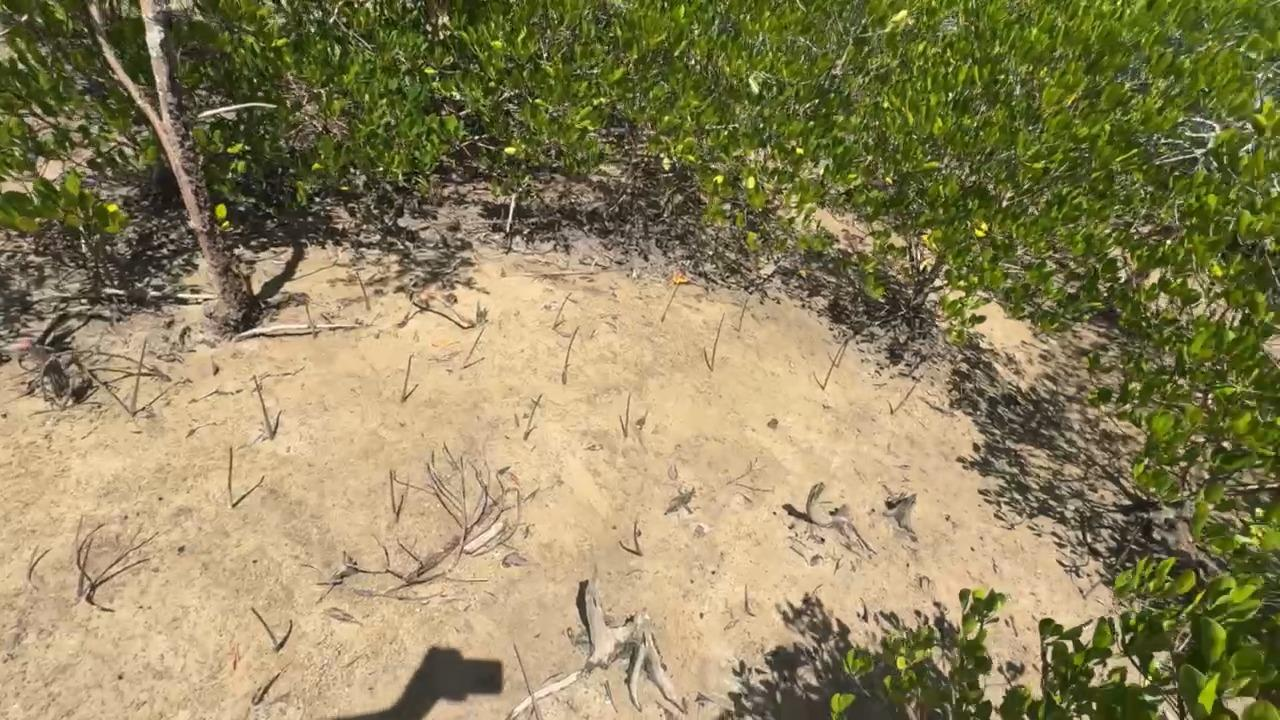Tree: (510, 639, 542, 720), (817, 339, 850, 390), (129, 336, 149, 415), (251, 374, 274, 441), (560, 324, 584, 385), (703, 311, 727, 372), (889, 375, 922, 415), (249, 607, 281, 648), (75, 537, 95, 596), (461, 326, 487, 367), (524, 392, 544, 441), (660, 281, 681, 321), (553, 293, 575, 330), (355, 272, 372, 311), (619, 392, 632, 438), (226, 446, 234, 508), (631, 516, 643, 557), (402, 354, 412, 403), (388, 469, 398, 517), (737, 297, 750, 333), (834, 339, 848, 369), (306, 302, 316, 339)
